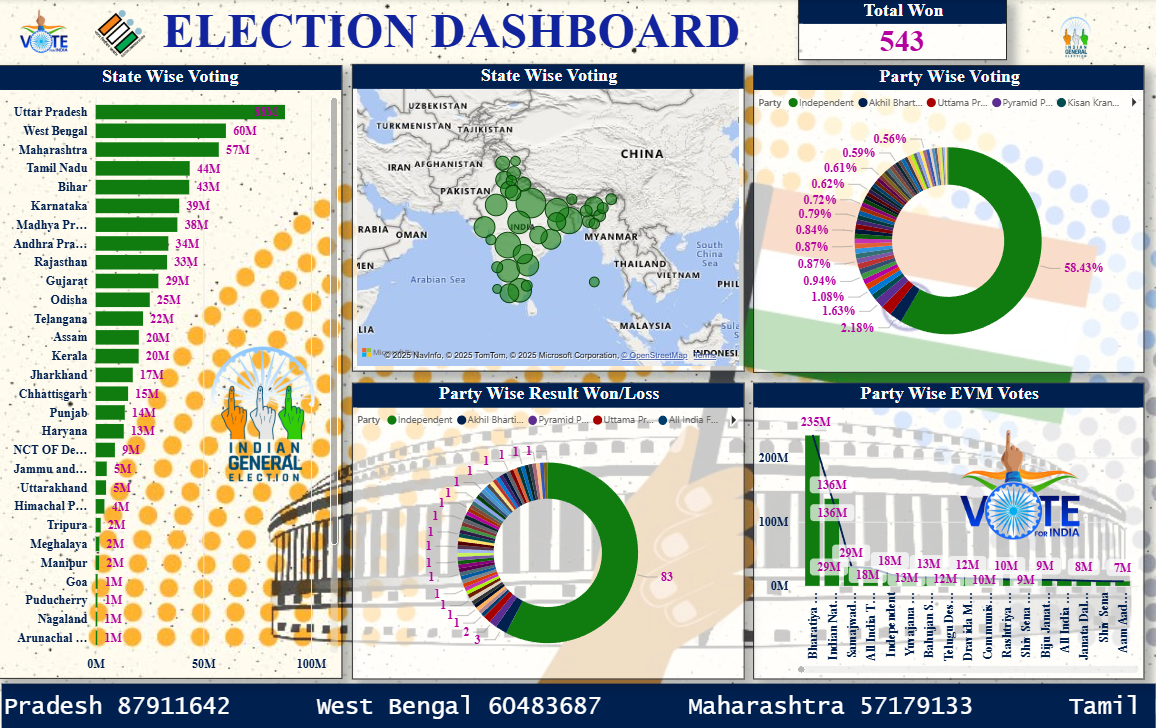

The dashboard page shown, as its layout file describes it:
{"tool":"powerbi","page":{"name":"Page 1","canvas":[1280,810],"ordinal":0},"visuals":[{"type":"textbox","box":[151.3,0,697.5,72.9],"z":0},{"type":"image","box":[92.2,327.4,407.2,286.1],"z":1000},{"type":"image","box":[11,0,81.2,72.9],"z":2000},{"type":"ScrollingTextVisual1448795304508","fields":{"Category":["GE_2024_Results new.State"],"Measure Absolute":["Sum(GE_2024_Results new.Total Votes)"]},"box":[0,748.4,1280.8,61.9],"z":3000},{"type":"barChart","title":"State Wise Voting","fields":{"Category":["GE_2024_Results new.State"],"Y":["Sum(GE_2024_Results new.Total Votes)"]},"box":[0,72.9,379.7,675.5],"z":4000},{"type":"map","title":"State Wise Voting","fields":{"Category":["GE_2024_Results new.State"],"Size":["Sum(GE_2024_Results new.Total Votes)"]},"box":[390.7,71.5,432,338.4],"z":5000},{"type":"donutChart","title":"Party Wise Voting","fields":{"Category":["GE_2024_Results new.Party"],"Y":["Sum(GE_2024_Results new.Total Votes)"]},"box":[832.3,72.9,430.6,338.4],"z":6000},{"type":"donutChart","title":"Party Wise Result Won/Loss","fields":{"Category":["GE_2024_Results new.Party"],"Y":["CountNonNull(GE_2024_Results new.Result_Final)"]},"box":[390.7,422.3,432,326],"z":7000},{"type":"card","title":"Total Won","fields":{"Values":["Sum(GE_2024_Results new.Result_Final)"]},"box":[881.8,0,229.7,67.4],"z":8000},{"type":"lineStackedColumnComboChart","title":"Party Wise EVM Votes","fields":{"Category":["GE_2024_Results new.Party"],"Y":["Sum(GE_2024_Results new.EVM Votes)"],"Y2":["Sum(GE_2024_Results new.EVM Votes)"]},"box":[832.3,422.3,430.6,326],"z":9000},{"type":"image","box":[1015.3,460.9,221.5,152.7],"z":10000},{"type":"image","box":[1111.6,0,152.7,92.2],"z":10001},{"type":"image","box":[103.2,4.1,64.7,68.8],"z":10002}]}

Visuals, with their boxes in screenshot pixels (x1, y1, x2, y2), scaled from the page's 1280x810 canvas onto the 1156x728 screenshot:
textbox: [137, 0, 767, 66]
image: [83, 294, 451, 551]
image: [10, 0, 83, 66]
ScrollingTextVisual1448795304508 - GE_2024_Results new.State x Sum(GE_2024_Results new.Total Votes): [0, 673, 1155, 727]
"State Wise Voting" barChart: [0, 66, 343, 673]
"State Wise Voting" map: [353, 64, 743, 368]
"Party Wise Voting" donutChart: [752, 66, 1141, 370]
"Party Wise Result Won/Loss" donutChart: [353, 380, 743, 673]
"Total Won" card: [796, 0, 1004, 61]
"Party Wise EVM Votes" lineStackedColumnComboChart: [752, 380, 1141, 673]
image: [917, 414, 1117, 551]
image: [1004, 0, 1142, 83]
image: [93, 4, 152, 66]
